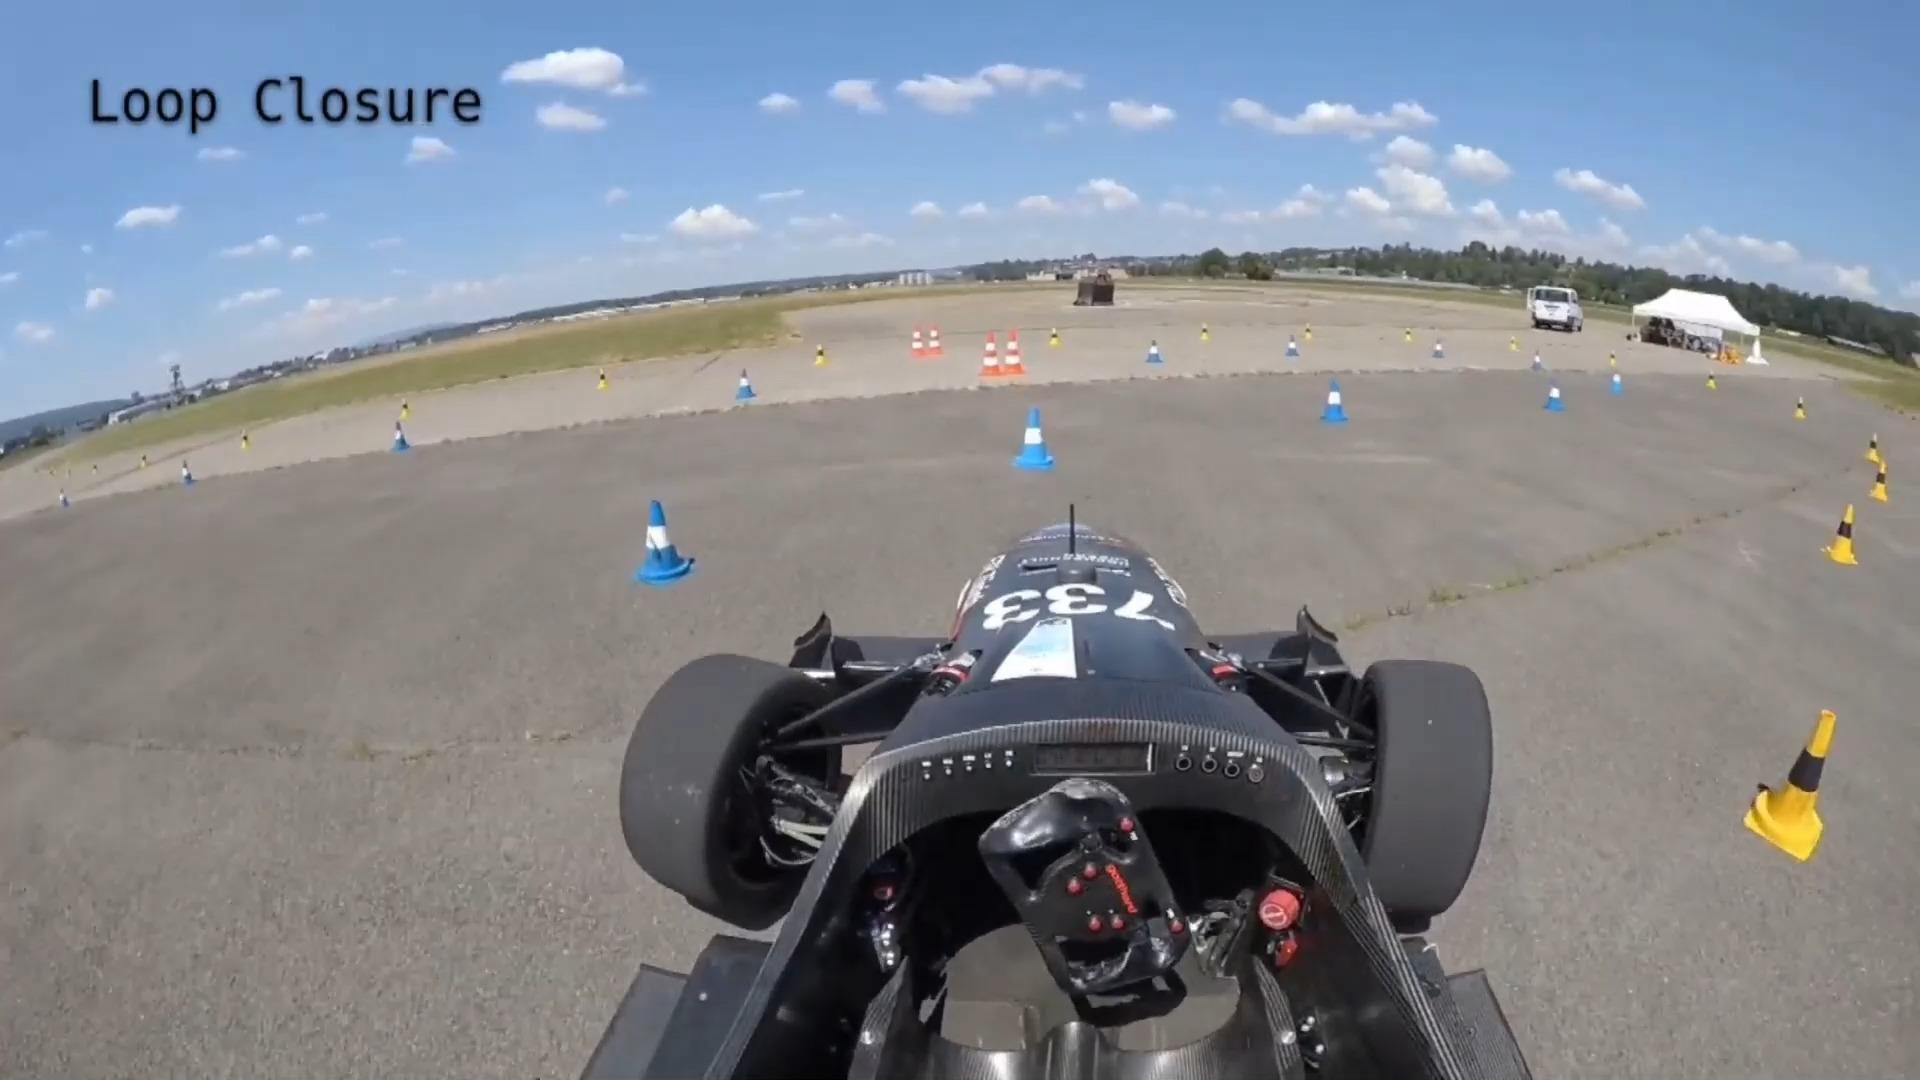blue_cone: (621, 492, 688, 585), (1005, 409, 1072, 480), (1312, 371, 1369, 444), (1539, 369, 1577, 427)
yellow_cone: (1742, 702, 1829, 865), (1817, 498, 1859, 574)
